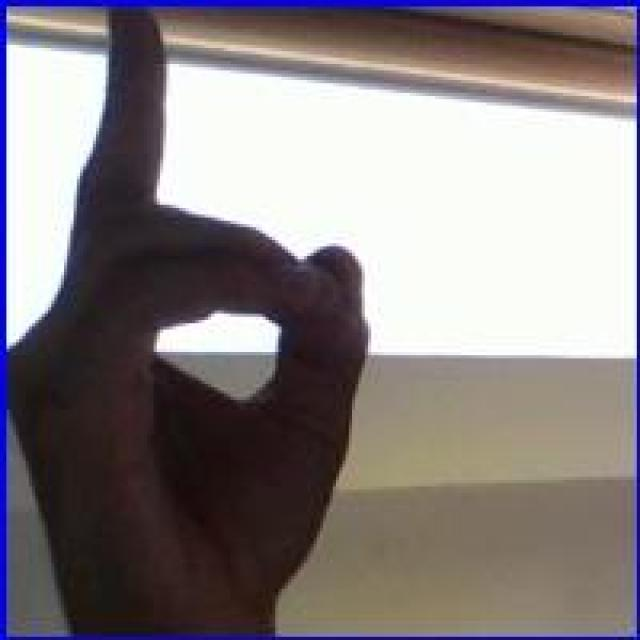D: (8, 9, 382, 630)
